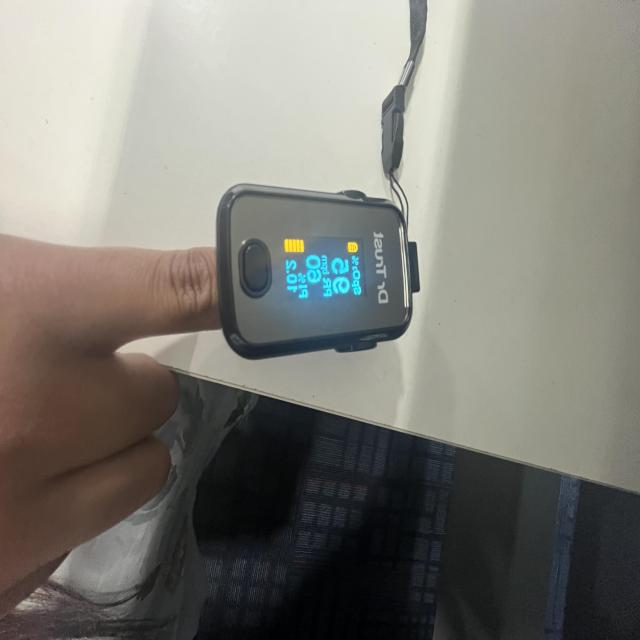spo2: (214, 183, 417, 361)
